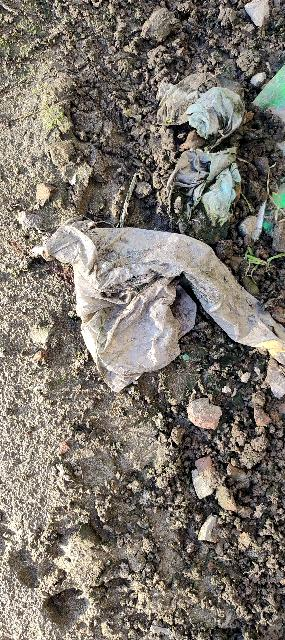polythene: (24, 167, 277, 428)
